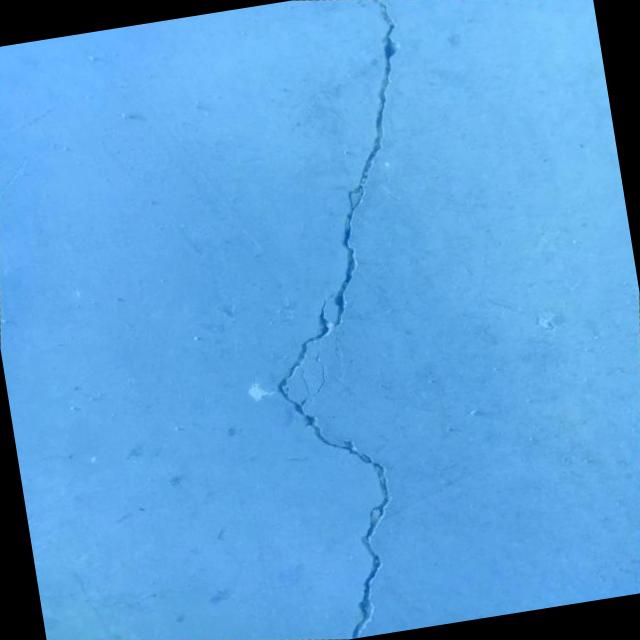crack: (183, 0, 498, 640), (325, 329, 354, 396)
